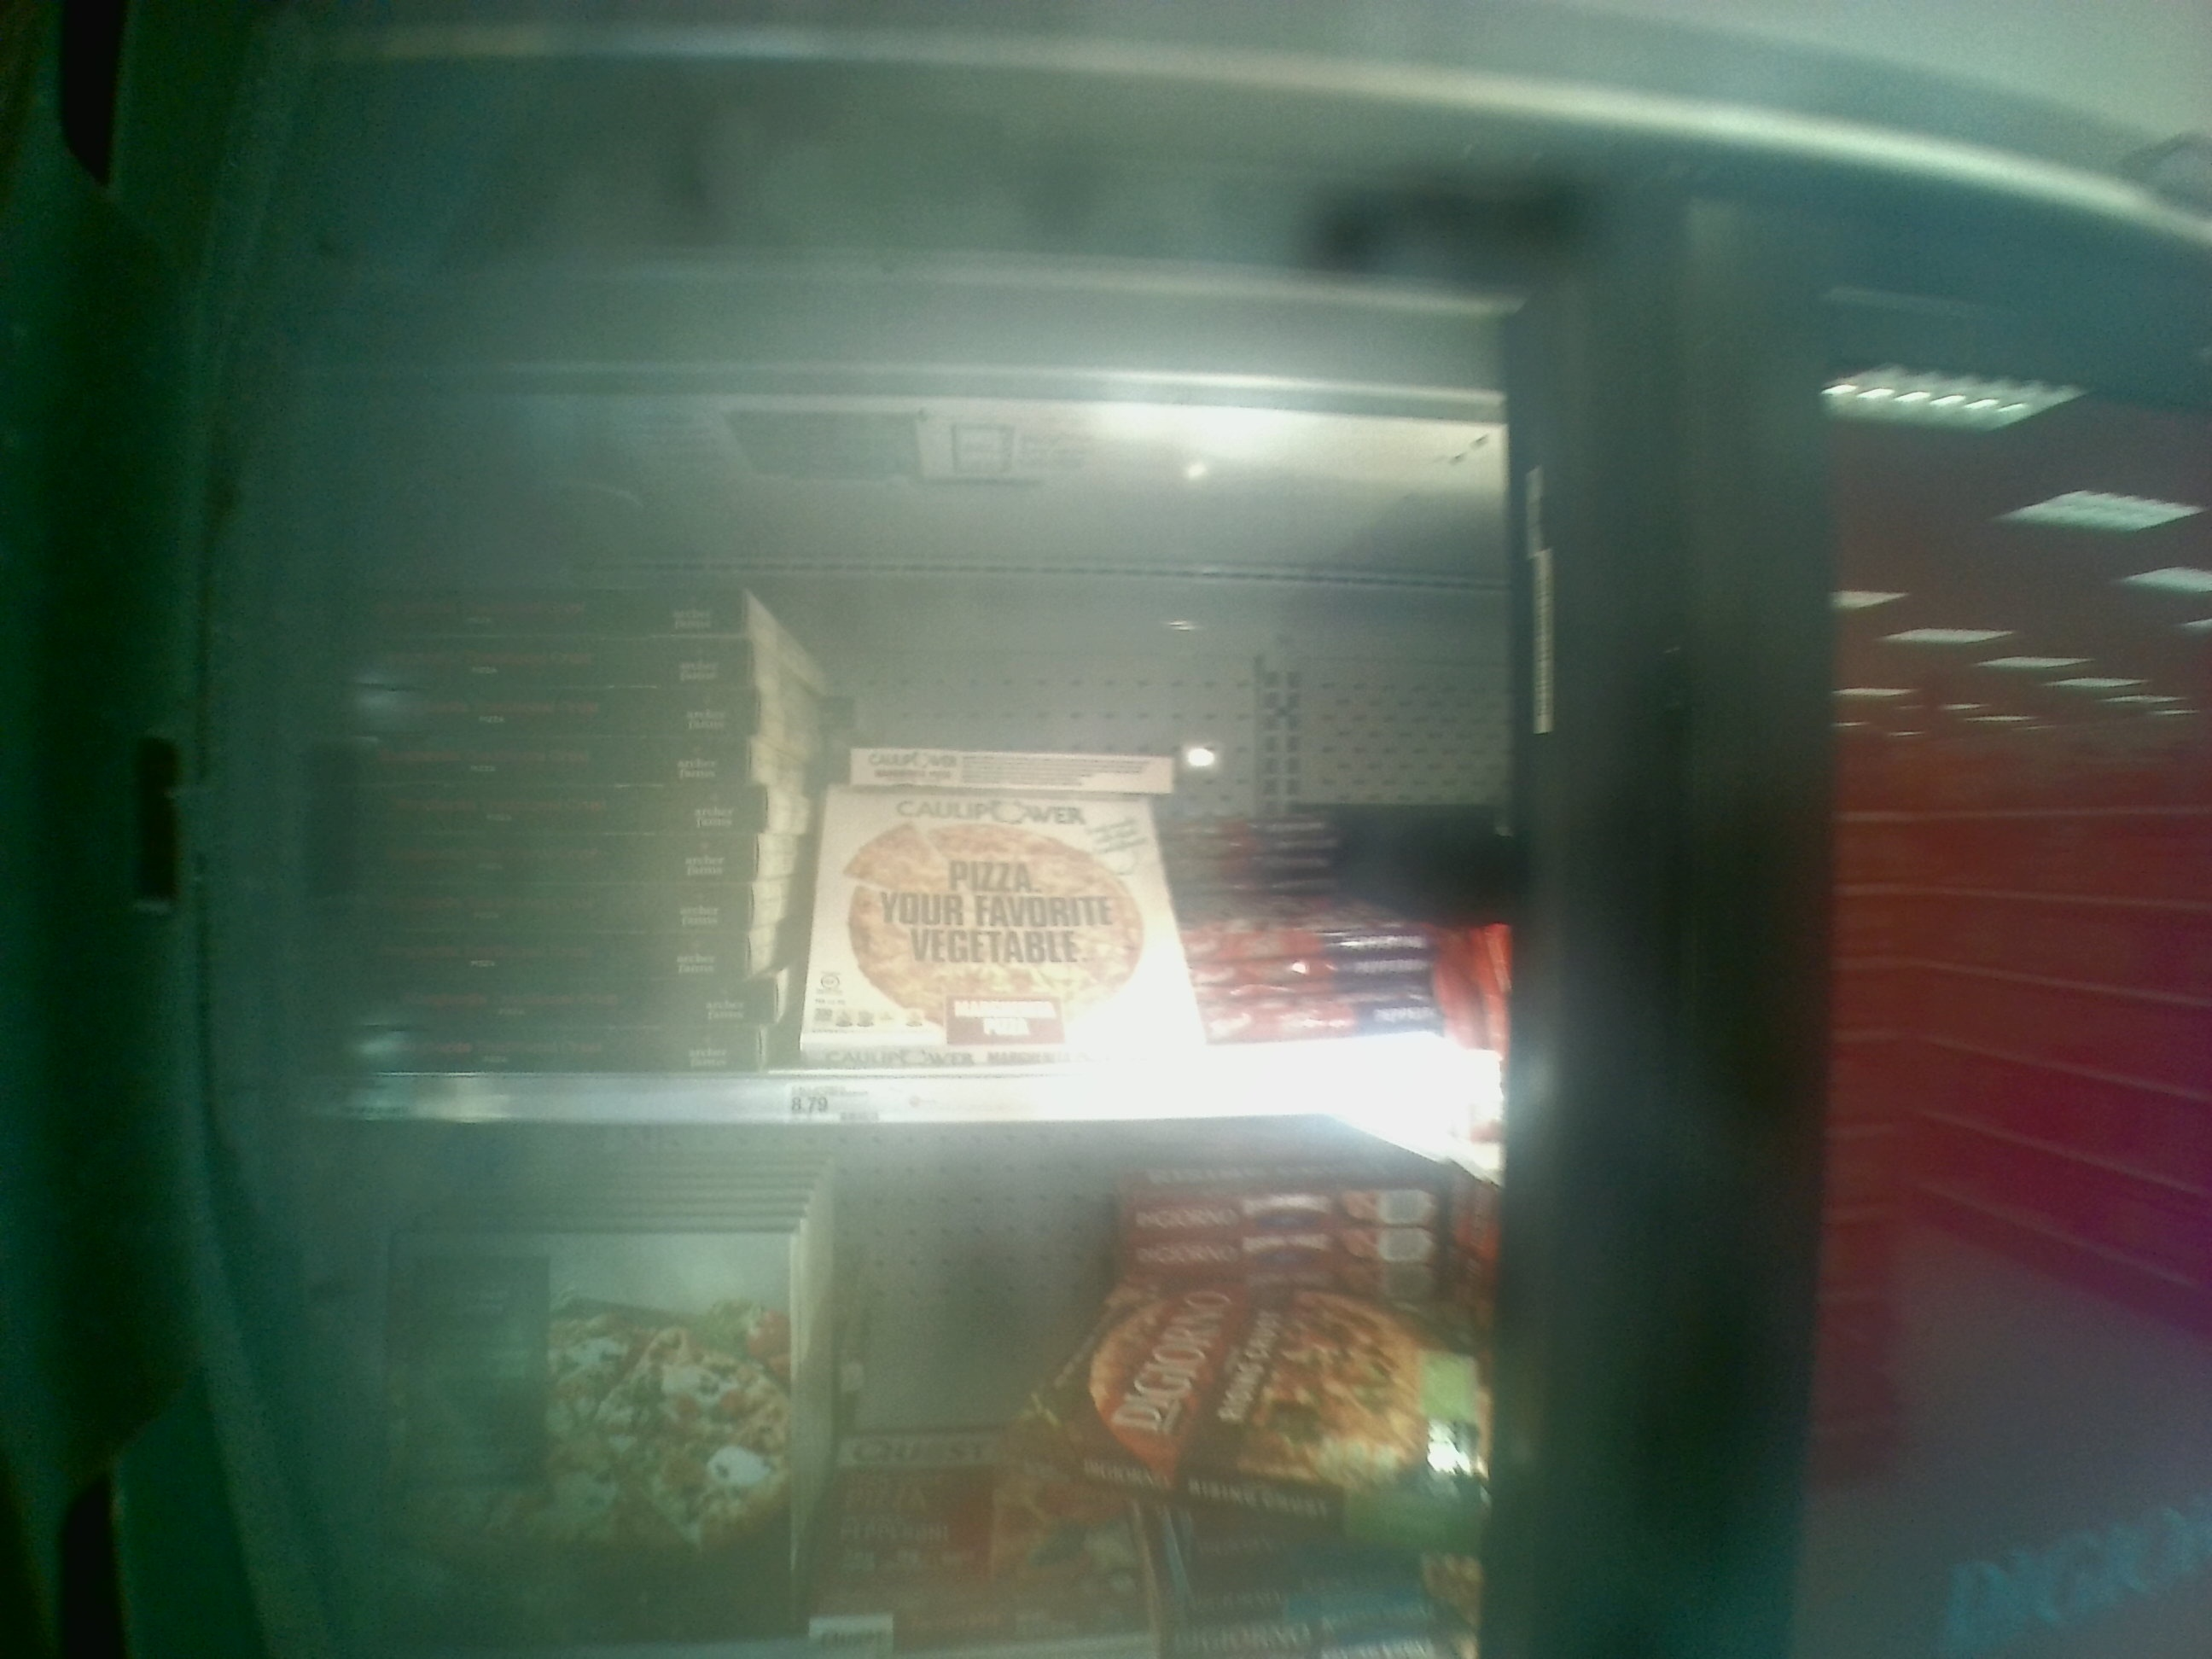shelf: (284, 364, 1514, 1134)
